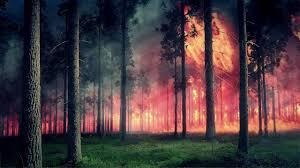fire: (130, 11, 299, 135)
